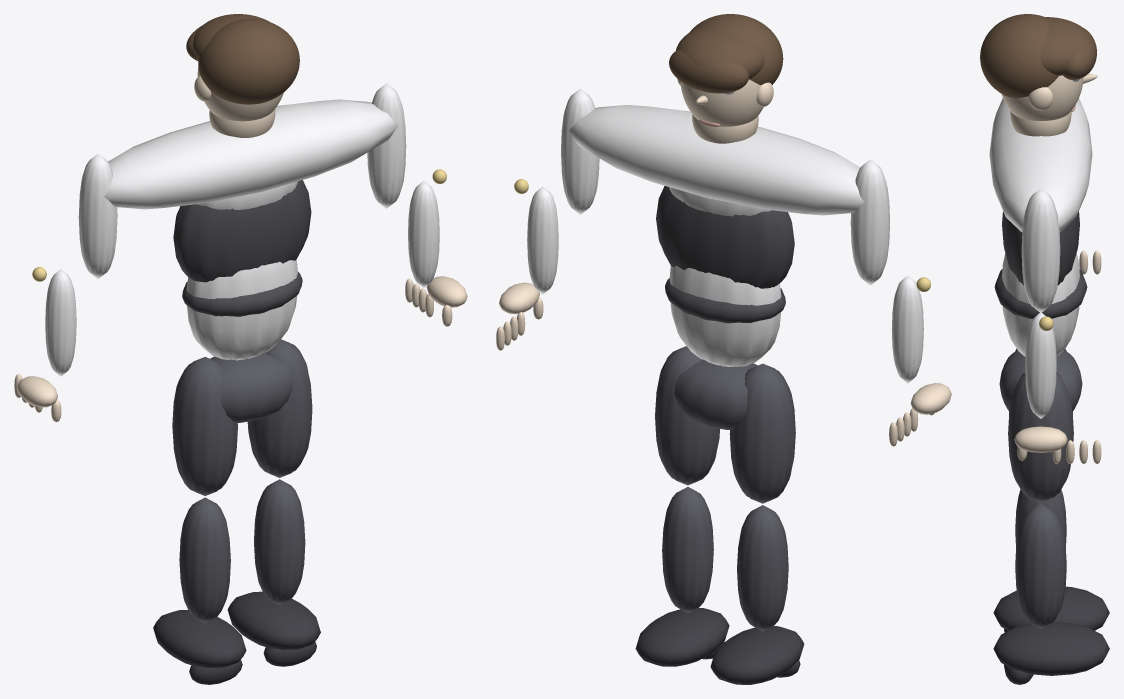
Rendered from dealer.glb.
3 renders of one model, left to right at view 1: azimuth 30°, elevation 25°; view 2: azimuth 150°, elevation 25°; view 3: azimuth 270°, elevation 25°, orthographic.
Parts seen in each view (by area): view 1: Cube.004, Cylinder.008, Cylinder, Sphere.008, Cylinder.005, Cylinder.001, Cylinder.003, Cylinder.002, Cylinder.004, Cube.001, Cube, Cylinder.010 (+12 smaller); view 2: Cube.004, Cylinder.008, Cylinder, Cylinder.005, Cylinder.003, Cylinder.001, Cylinder.002, Cylinder.004, Cube.001, Cube, Cylinder.010, Cylinder.017 (+11 smaller); view 3: Cube.004, Cylinder.003, Cube.001, Cylinder.002, Sphere.008, Cylinder.017, Cylinder.005, Cylinder.018, Cube, Sphere.009, Cylinder.008, Cylinder.004 (+8 smaller).
Part boxes in pixels (box(x1,y1,x2,y2)): Cube.004: box(104, 99, 398, 209); Cylinder.008: box(173, 180, 311, 282); Cylinder: box(172, 357, 237, 495); Sphere.008: box(198, 19, 299, 104); Cylinder.005: box(187, 259, 297, 360); Cylinder.001: box(179, 497, 230, 623); Cylinder.003: box(254, 479, 305, 604); Cylinder.002: box(247, 339, 312, 477); Cylinder.004: box(210, 352, 293, 422); Cube.001: box(227, 591, 320, 649); Cube: box(153, 610, 246, 667); Cylinder.010: box(78, 153, 117, 279); Cube.004: box(568, 105, 864, 215); Cylinder.008: box(656, 186, 794, 288); Cylinder: box(729, 363, 795, 503); Cylinder.005: box(669, 265, 781, 366); Cylinder.003: box(662, 487, 713, 612); Cylinder.001: box(737, 505, 788, 631); Cylinder.002: box(655, 346, 719, 485); Cylinder.004: box(674, 359, 757, 429); Cube.001: box(635, 607, 729, 666); Cube: box(710, 626, 804, 684); Cylinder.010: box(850, 159, 889, 285); Cylinder.017: box(561, 88, 599, 214); Cube.004: box(989, 98, 1092, 231); Cylinder.003: box(1015, 504, 1066, 628); Cube.001: box(993, 621, 1109, 675); Cylinder.002: box(1008, 372, 1073, 502); Sphere.008: box(980, 14, 1058, 97); Cylinder.017: box(1021, 188, 1060, 312); Cylinder.005: box(1002, 253, 1079, 356); Cylinder.018: box(1025, 312, 1056, 418); Cube: box(993, 586, 1109, 630); Sphere.009: box(1040, 17, 1093, 75); Cylinder.008: box(1002, 211, 1079, 285); Cylinder.004: box(999, 350, 1082, 410).
Bounding box in the file's own units: 1.89 × 2.65 × 0.4865.
